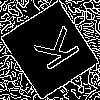K: (25, 25, 82, 78)
